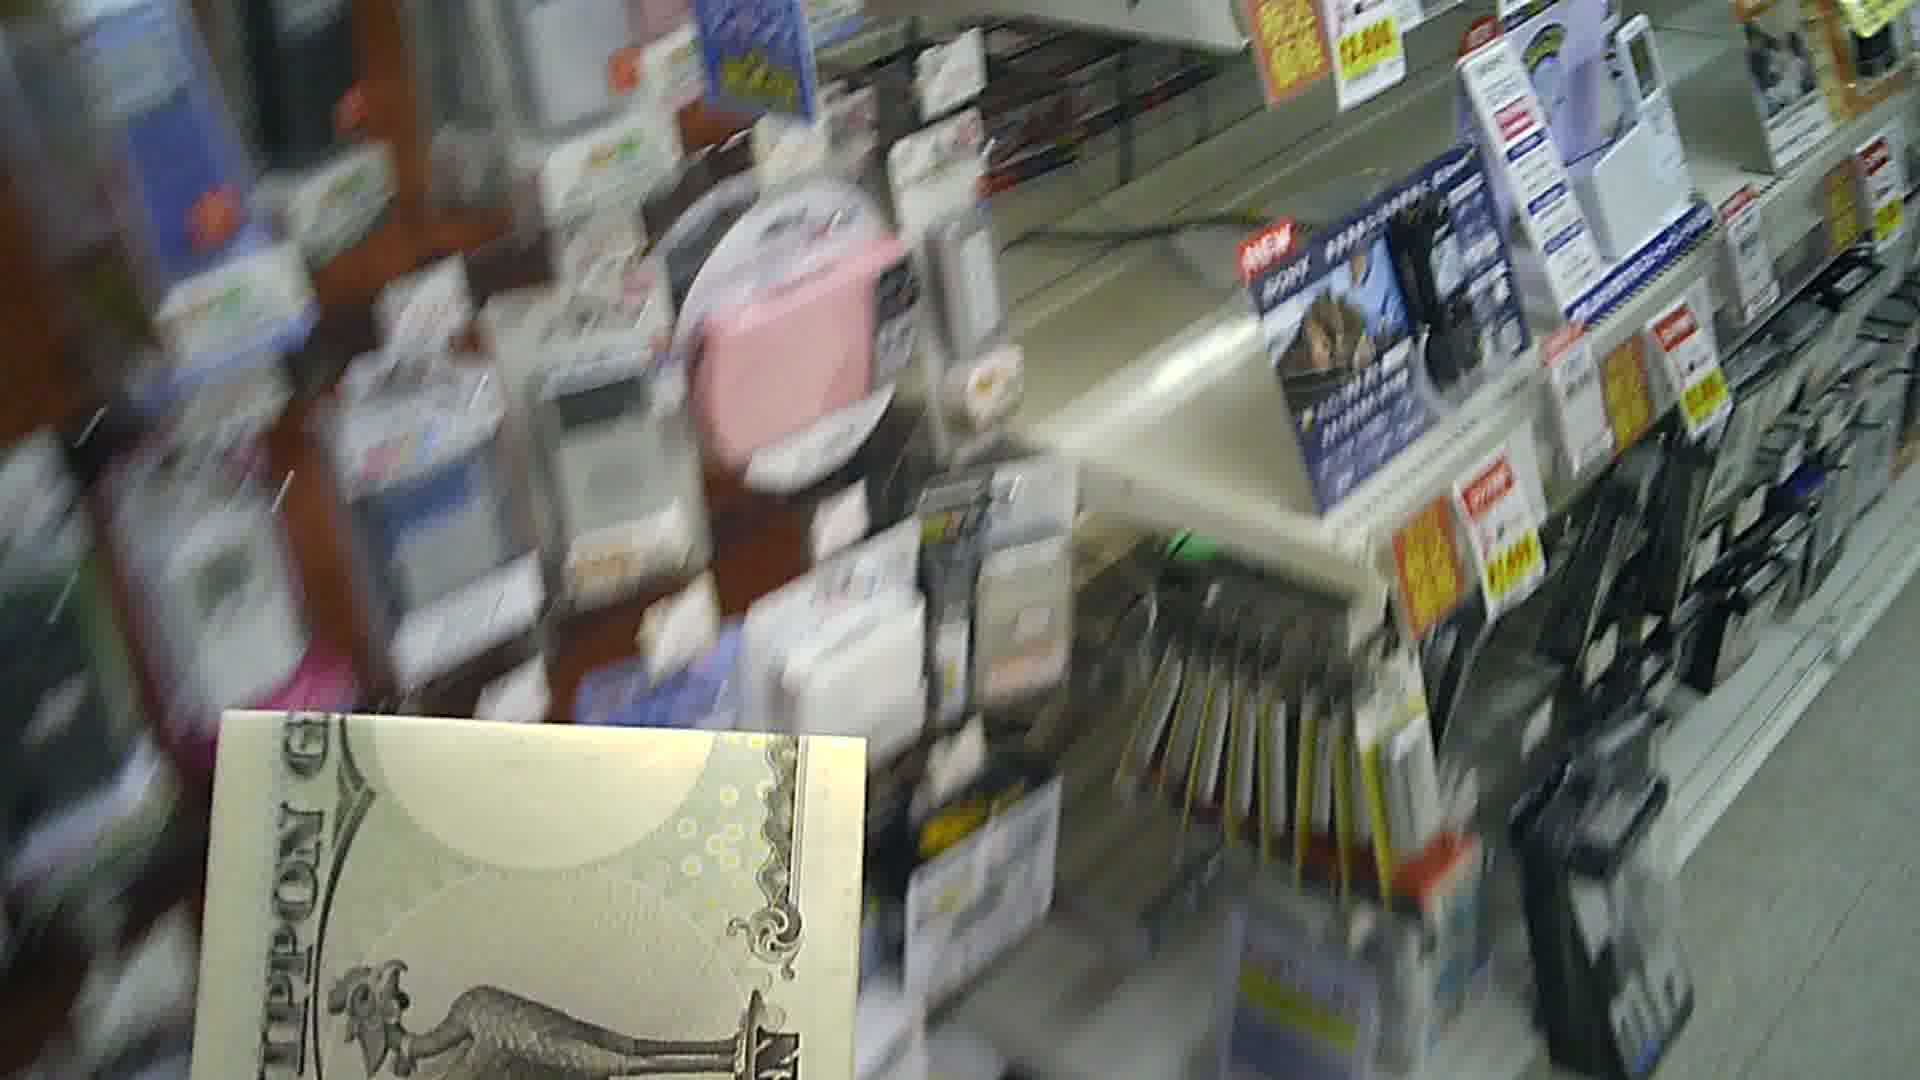10,000 Yen: (185, 688, 844, 1079)
